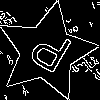P: (22, 27, 75, 83)
